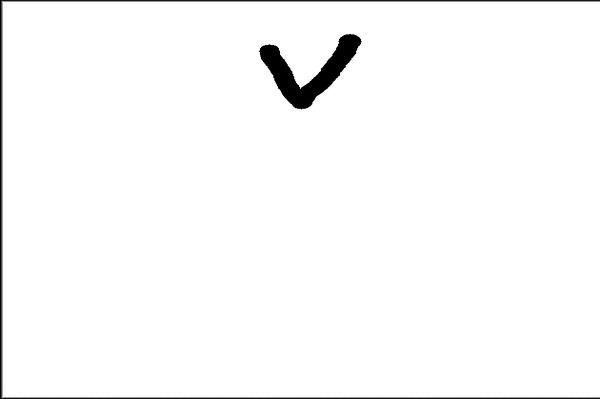V: (246, 28, 373, 115)
